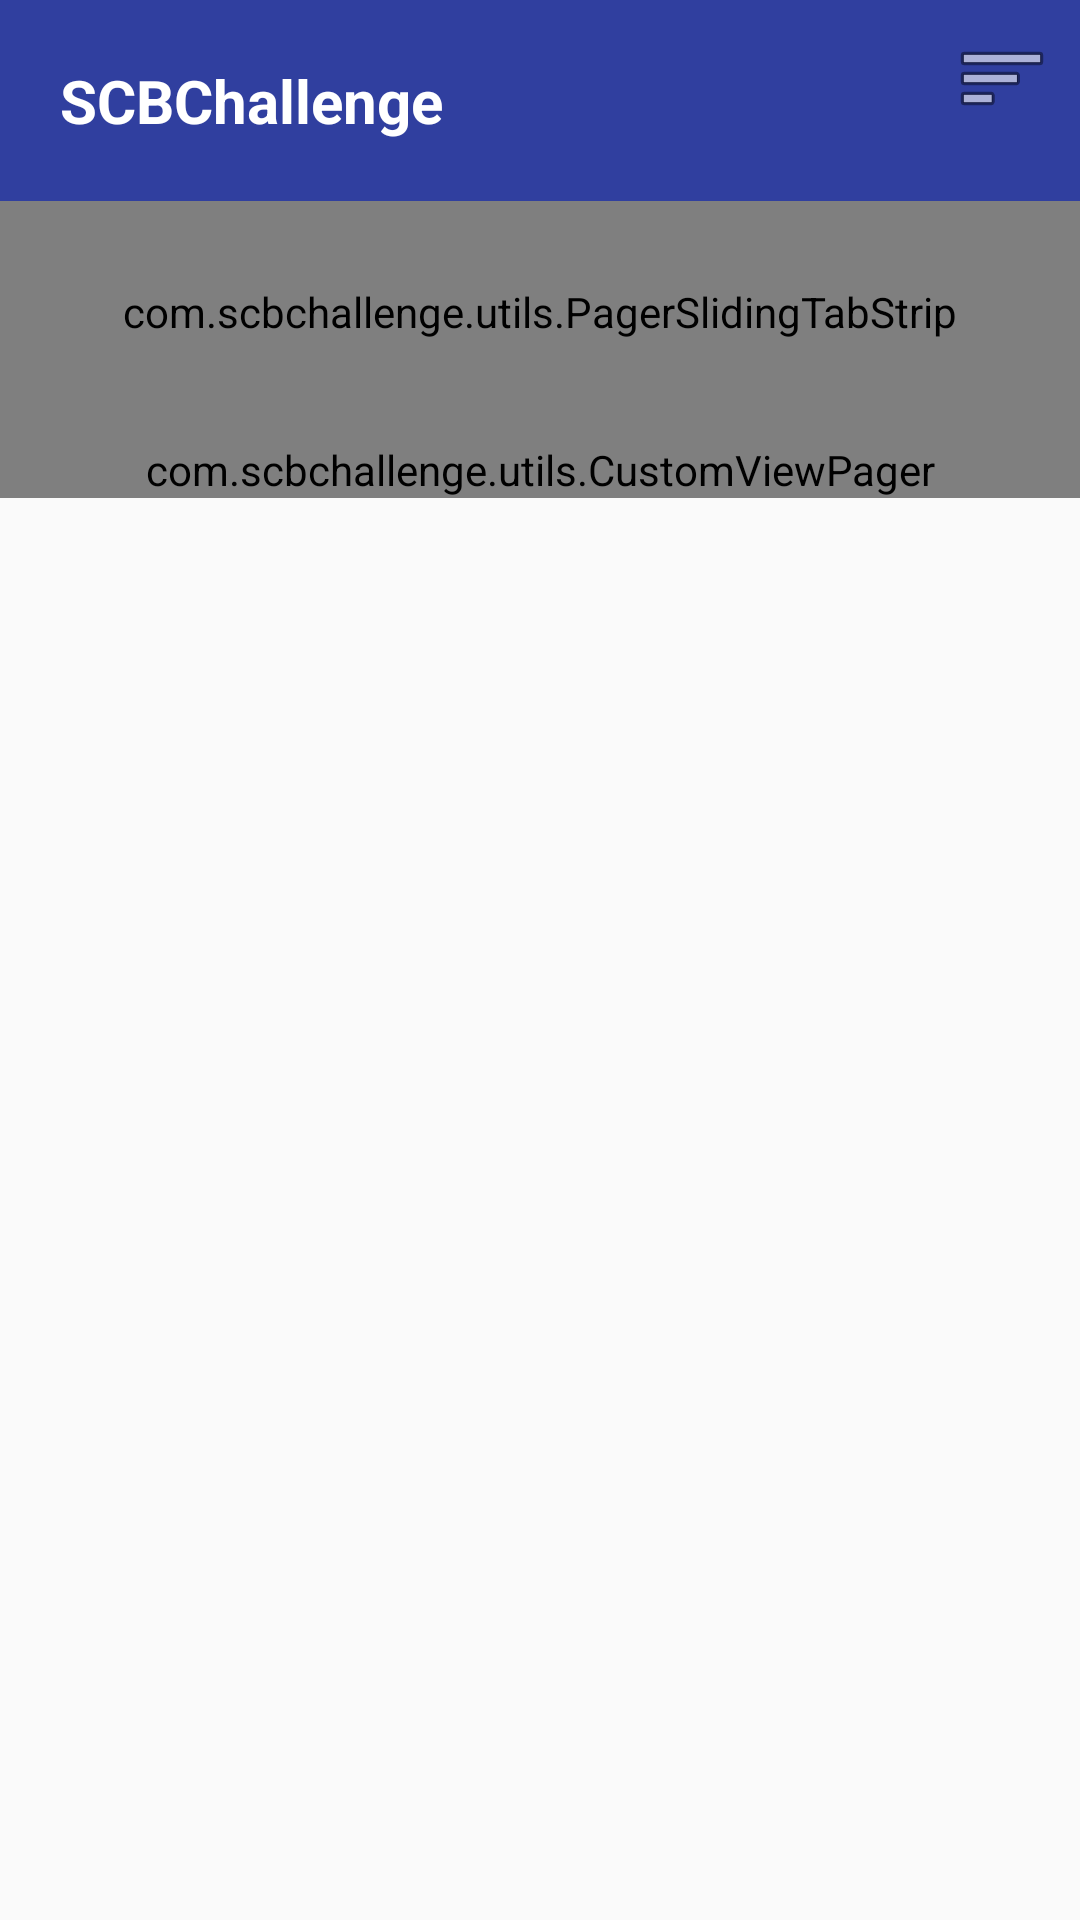

Icons on this 1080 x 1920 Android screen, each with its box as (x1, y1, x2, y2):
sort by size: (961, 52, 1043, 105)
